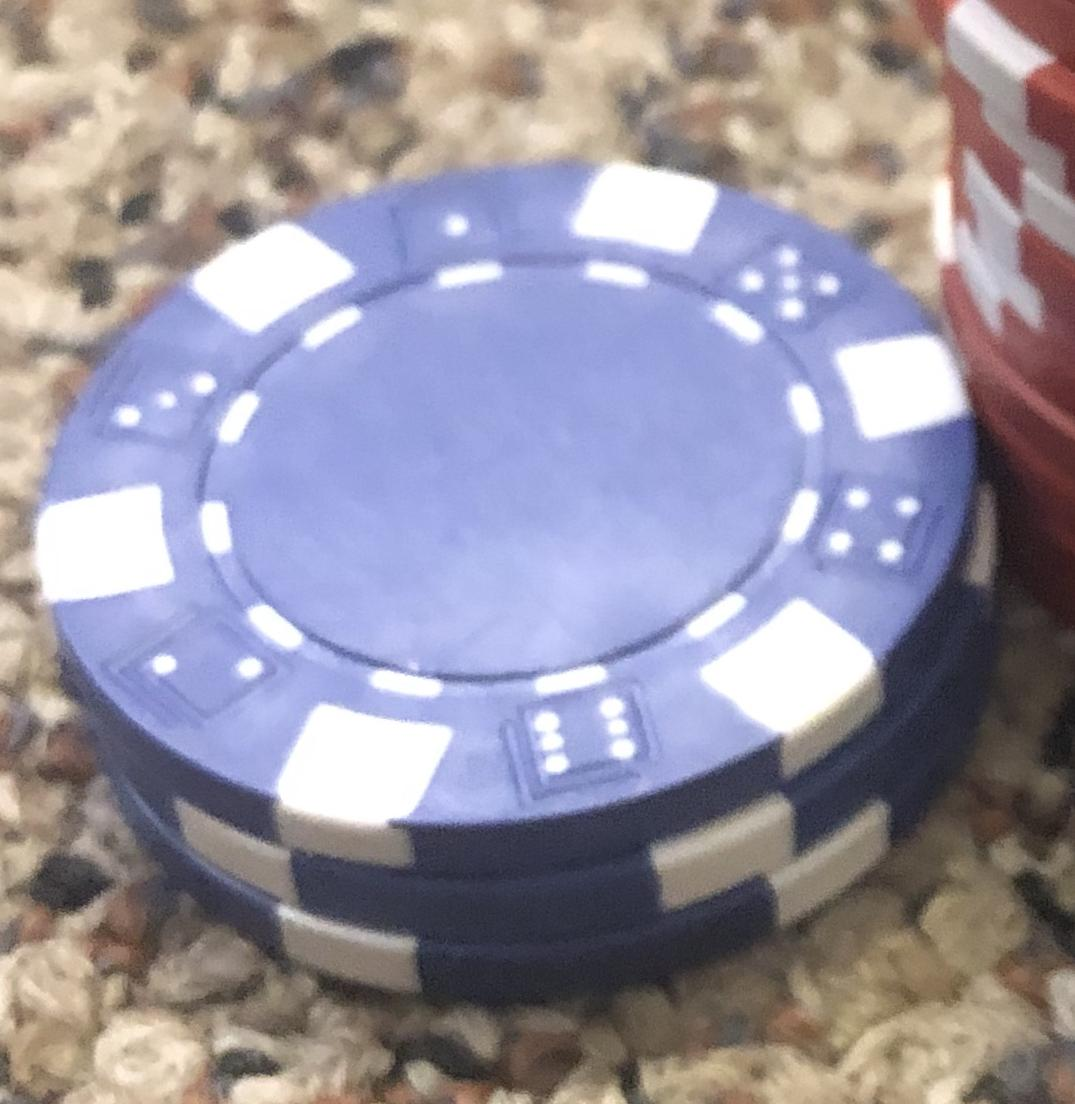Chip: (1, 1, 1075, 1104)
